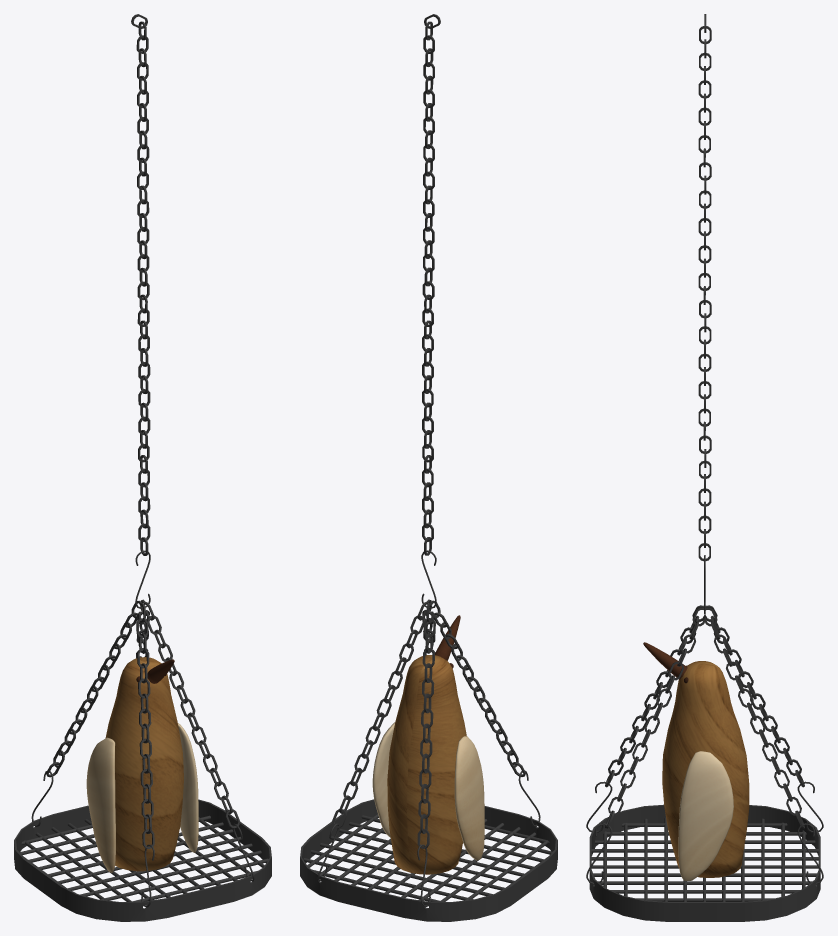
File: 5_rihuto_down.fbx
3 views of the same model, side by side, from view 1: azimuth 30°, elevation 25°; view 2: azimuth 150°, elevation 25°; view 3: azimuth 270°, elevation 25° (orthographic).
Visible parts, largest first — view 1: rihutoP_L; view 2: rihutoP_L; view 3: rihutoP_L.
Part boxes in pixels (x1,y1,x2,y2): rihutoP_L: [14, 14, 271, 921]; rihutoP_L: [300, 14, 557, 921]; rihutoP_L: [586, 14, 823, 921].
Size of the model in its own units: 58.65 by 238 by 59.76.
Materials: 2 (2 with a texture image).
